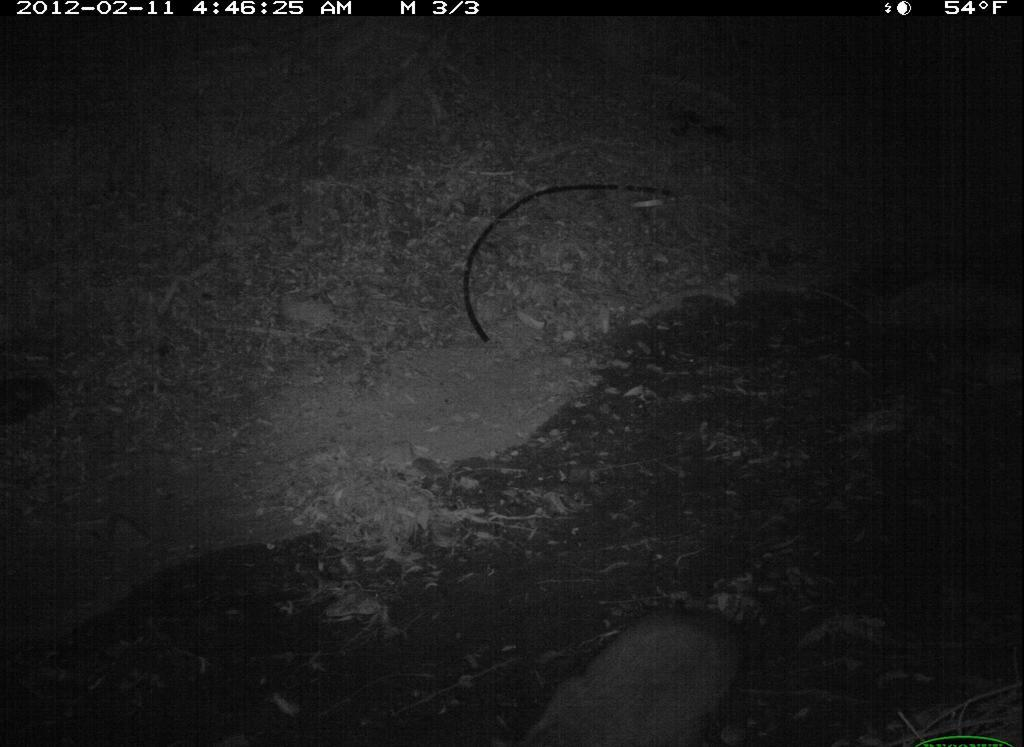raccoon: (510, 589, 769, 747)
